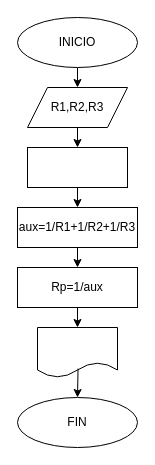
Image size: 155x465. Some labels were removed from this diagram. Each missing label, with the box of its shape:
Rs,Rp: (36, 326, 118, 378)
Rs=R1+R2+R3: (26, 146, 128, 188)
